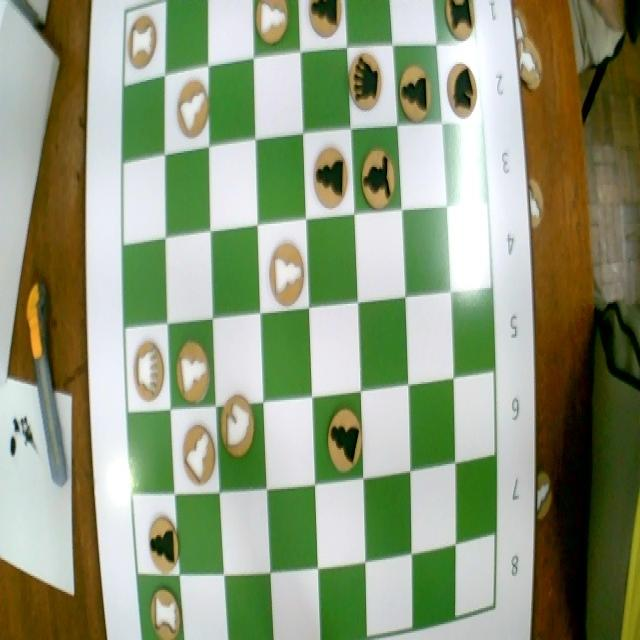chess-pieces: (303, 131, 352, 212), (346, 41, 394, 122), (264, 226, 307, 305), (169, 334, 213, 407), (317, 402, 361, 474), (128, 334, 167, 410), (170, 74, 210, 146), (178, 416, 218, 488), (142, 500, 182, 570), (126, 4, 163, 75), (222, 385, 256, 462), (357, 148, 399, 208), (396, 65, 434, 125), (254, 0, 297, 49), (144, 586, 182, 640), (304, 0, 345, 46), (446, 65, 480, 118), (441, 0, 474, 43)
